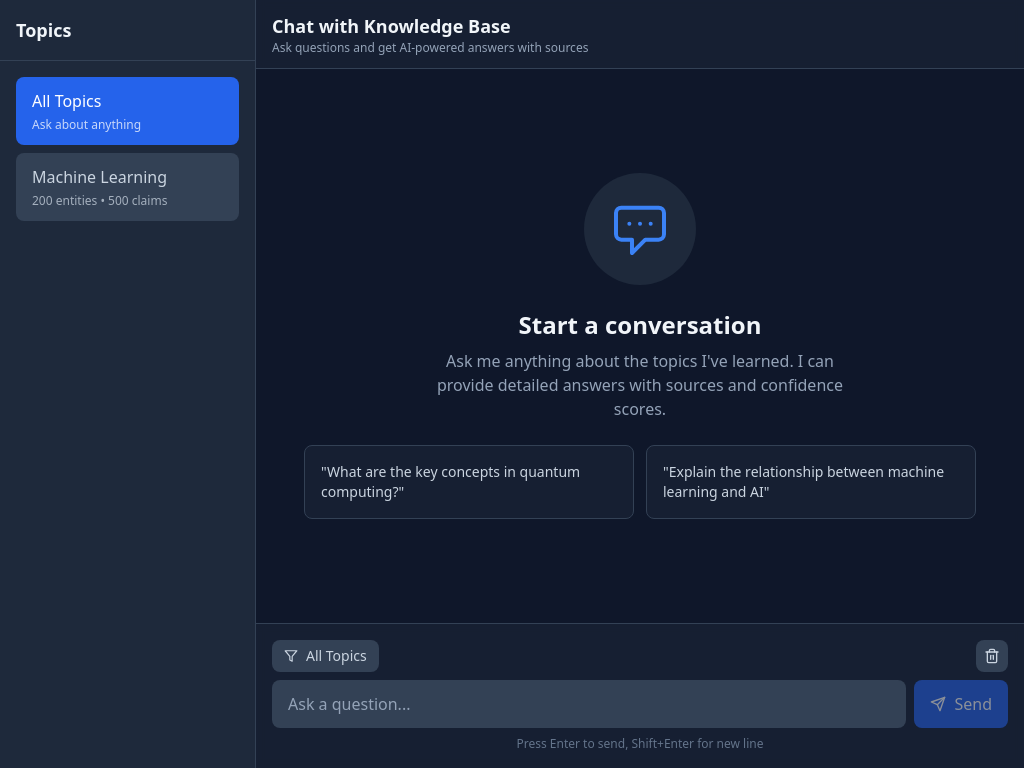
Test: ChatPage › sends a message and shows the response
The width and height of the screenshot is (1024, 768).
Step 1. Type "Hello AI" into the text box with placeholder "Ask a question..." → (589, 704), box top-left (272, 680), bottom-right (906, 728)
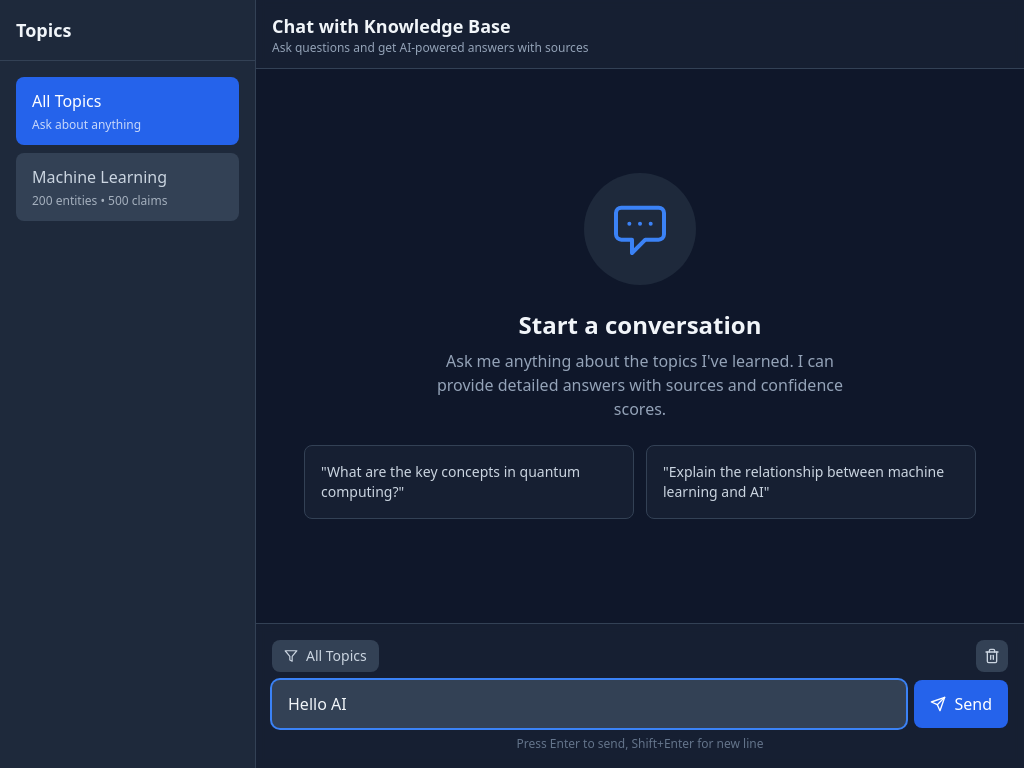
Step 2. Click the button "Send" → (961, 704), box top-left (914, 680), bottom-right (1008, 728)
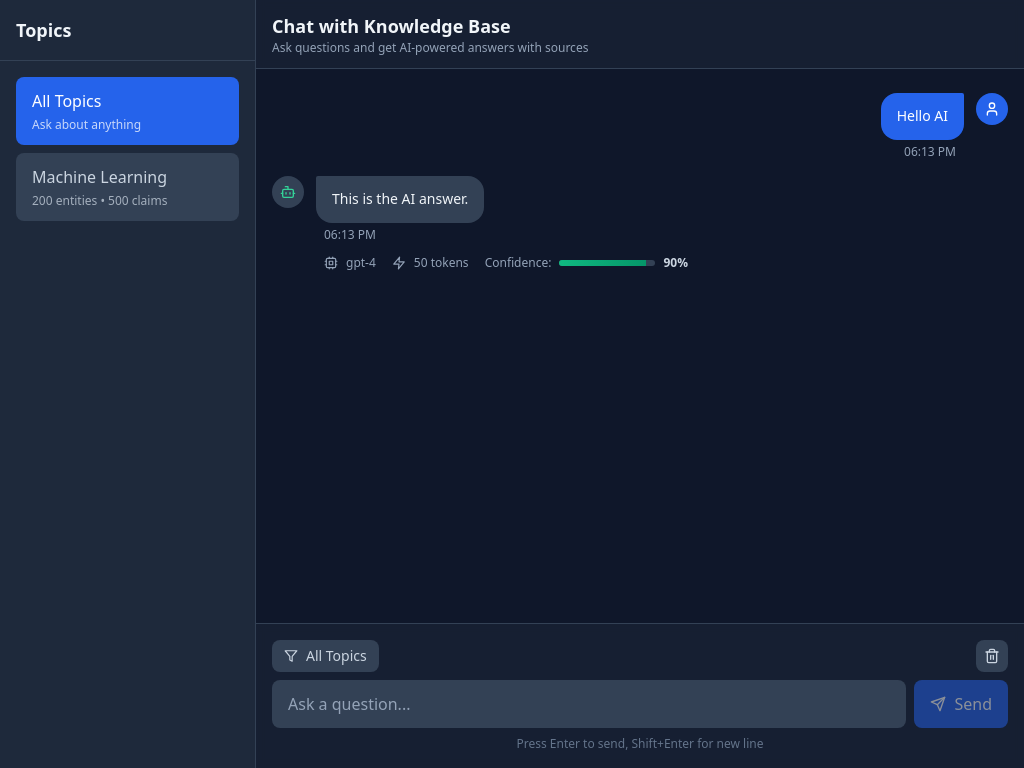
Expected: the text "Hello AI" is shown, top-left (897, 105), bottom-right (948, 128)
Expected: the text "This is the AI answer." is shown, top-left (332, 188), bottom-right (468, 211)
